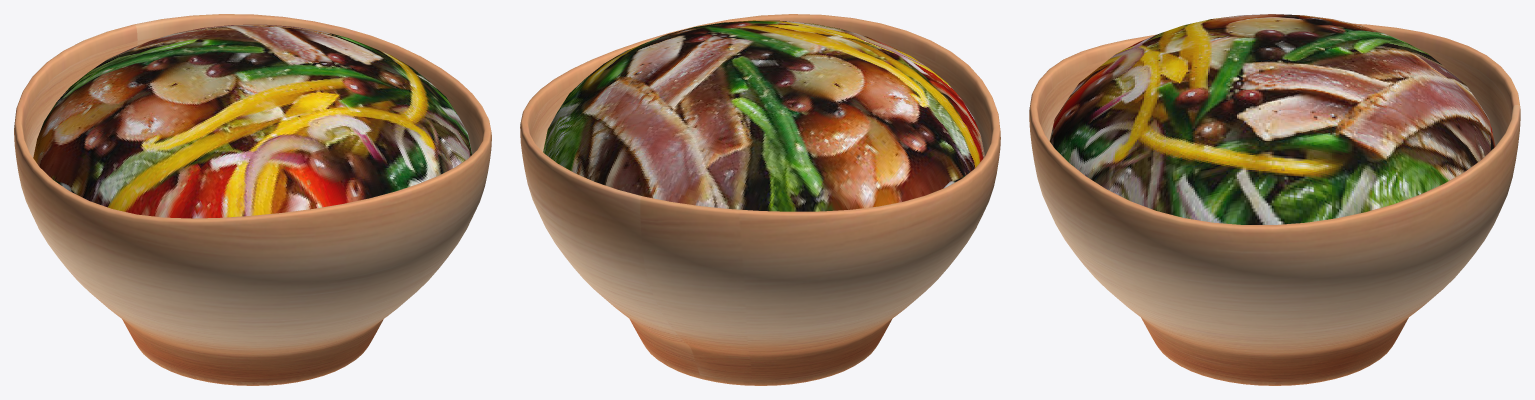
The model's file is salat.FBX.
3 renders of one model, left to right at view 1: azimuth 30°, elevation 25°; view 2: azimuth 150°, elevation 25°; view 3: azimuth 270°, elevation 25°, orthographic. The views are drawn at different scales.
Parts seen in each view (by area): view 1: Sphere001; view 2: Sphere001; view 3: Sphere001.
Boxes of the visible parts, <box> form: Sphere001: <box>14,14,491,385</box>; Sphere001: <box>520,14,1000,385</box>; Sphere001: <box>1029,14,1520,385</box>.
Size of the model in its own units: 9.45 by 6.14 by 9.52.
